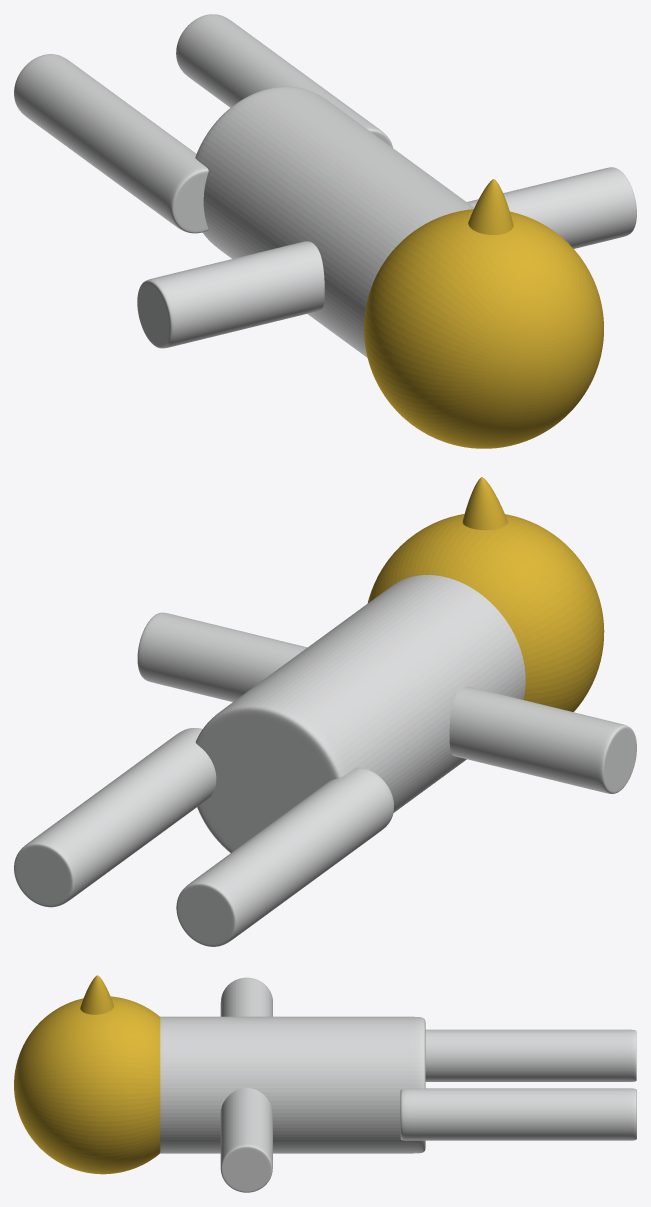
Rendered from 04_a_wooden_toy_of_a_person_sq.glb.
The picture shows the model from 3 angles, top to bottom: view 1: azimuth 30°, elevation 25°; view 2: azimuth 150°, elevation 25°; view 3: azimuth 270°, elevation 25°; orthographic projection. The views are drawn at different scales.
Visible parts, largest first — view 1: superquadric_6, superquadric_5, superquadric_4, superquadric_2, superquadric_3, superquadric_0, superquadric_1; view 2: superquadric_5, superquadric_6, superquadric_4, superquadric_3, superquadric_2, superquadric_0, superquadric_1; view 3: superquadric_5, superquadric_6, superquadric_3, superquadric_4, superquadric_0, superquadric_2, superquadric_1.
Boxes of the visible parts, bbox=[...] form: superquadric_6: bbox=[364, 209, 603, 448]; superquadric_5: bbox=[195, 86, 474, 357]; superquadric_4: bbox=[14, 54, 208, 233]; superquadric_2: bbox=[137, 241, 324, 348]; superquadric_3: bbox=[176, 14, 392, 147]; superquadric_0: bbox=[467, 167, 636, 248]; superquadric_1: bbox=[468, 179, 513, 234]; superquadric_5: bbox=[195, 575, 525, 852]; superquadric_6: bbox=[368, 514, 604, 711]; superquadric_4: bbox=[176, 767, 393, 946]; superquadric_3: bbox=[14, 728, 216, 907]; superquadric_2: bbox=[449, 686, 636, 793]; superquadric_0: bbox=[137, 612, 307, 701]; superquadric_1: bbox=[462, 477, 507, 530]; superquadric_5: bbox=[160, 1016, 425, 1153]; superquadric_6: bbox=[14, 996, 160, 1174]; superquadric_3: bbox=[400, 1088, 636, 1140]; superquadric_4: bbox=[425, 1029, 636, 1081]; superquadric_0: bbox=[220, 1088, 272, 1192]; superquadric_2: bbox=[220, 977, 272, 1016]; superquadric_1: bbox=[80, 975, 113, 1014].
Bounding box in the file's own units: 0.6417 × 0.3414 × 1.
